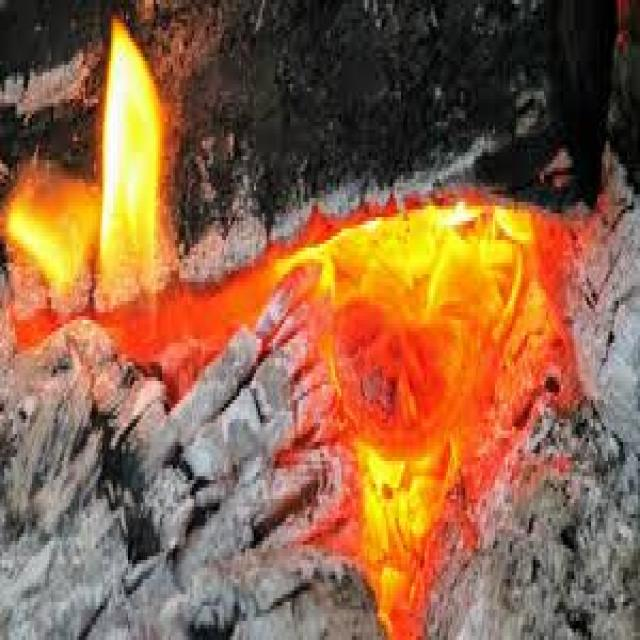fire: (274, 202, 549, 640), (97, 14, 160, 308), (2, 165, 103, 292)
